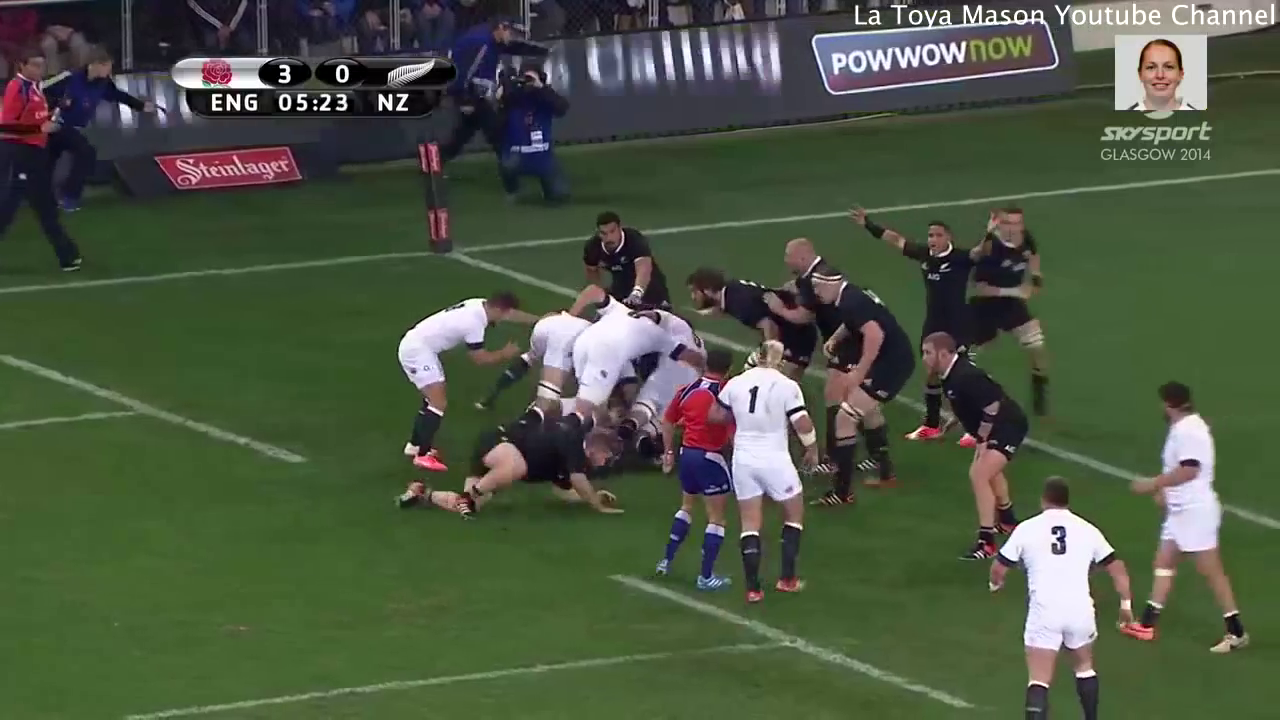player: (1112, 372, 1258, 668), (835, 184, 991, 458), (979, 473, 1148, 720), (913, 318, 1038, 580), (721, 333, 831, 604), (801, 261, 915, 512), (376, 419, 630, 529), (381, 287, 527, 478), (636, 339, 742, 595), (959, 188, 1068, 436), (672, 247, 818, 383), (464, 296, 606, 428), (556, 290, 669, 442), (561, 204, 677, 305), (753, 226, 836, 328)
